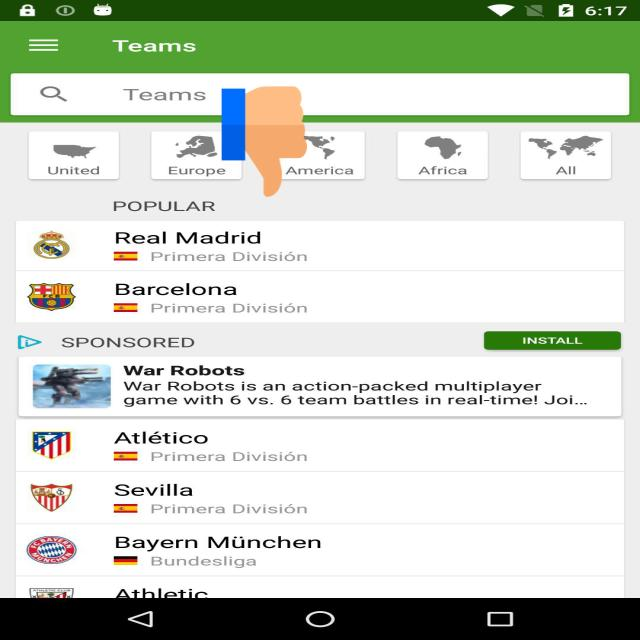obstruction: (222, 84, 307, 200)
